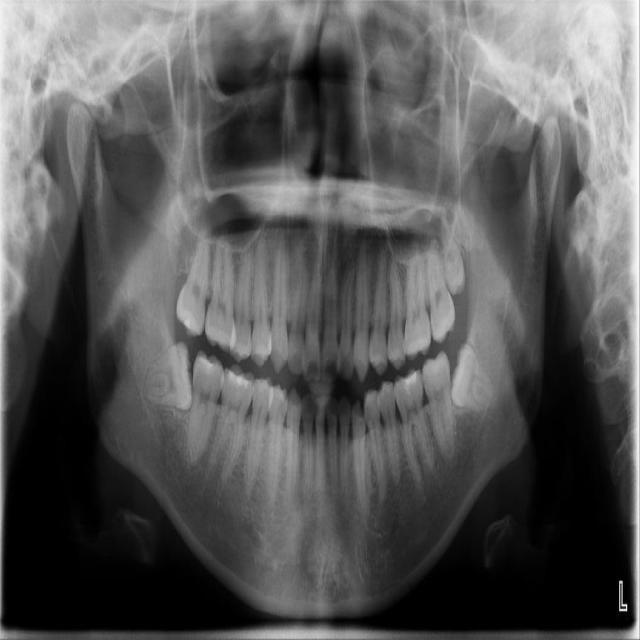52: (162, 289, 216, 341), (187, 350, 232, 395), (216, 360, 263, 402), (393, 366, 425, 401)
73: (598, 566, 606, 580)
BioHorizons Implant: (426, 237, 457, 344)
BioLife Implant: (435, 206, 469, 296)
Biomet 3i Implant: (430, 340, 502, 424)
Blue Sky Bio Implant: (419, 351, 457, 465)
Caries: (174, 232, 214, 338)
Implant: (186, 349, 227, 464)
Keystone Dental Implant: (143, 338, 196, 411)
